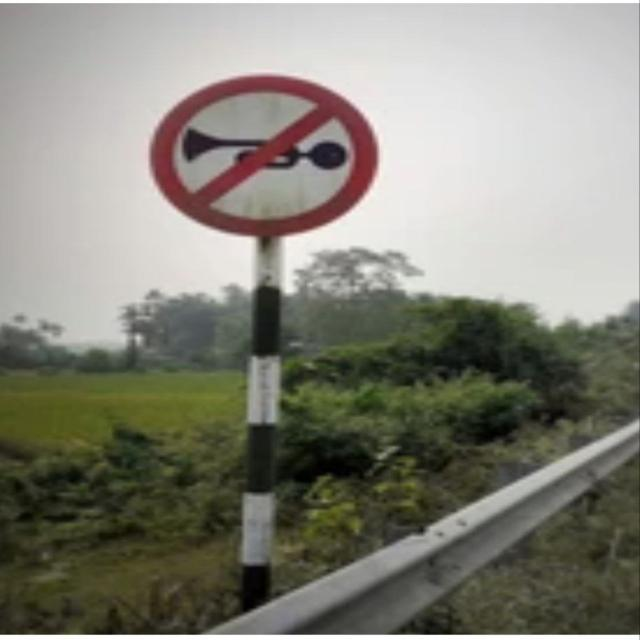horn prohibited: (150, 68, 385, 236)
